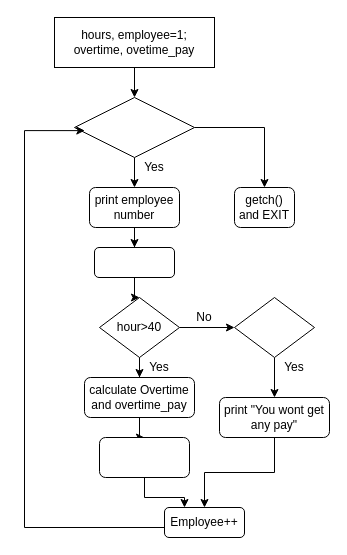
This 347x555 diagram has some shape labels left out. Here are the shapes that lost their labels. From the top down, the box of each, then its label:
(74, 96, 194, 158): employee<=10
(94, 246, 174, 278): Scan hours
(234, 296, 314, 358): hour<=40
(98, 436, 190, 478): print overtime_pay
